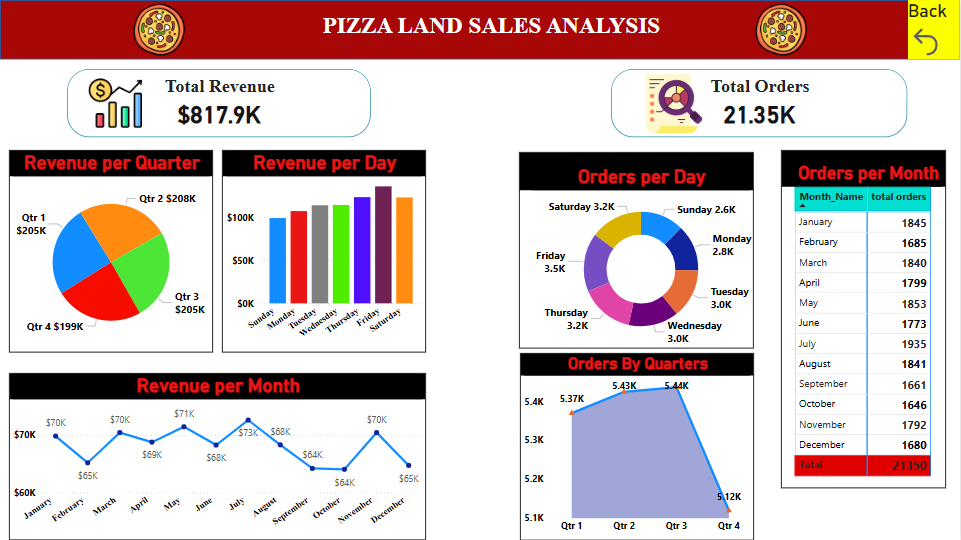

The dashboard page shown, as its layout file describes it:
{"tool":"powerbi","page":{"name":"Time Analysis","canvas":[1280,720],"ordinal":1},"visuals":[{"type":"shape","box":[0,0,1279.8,79.4],"z":0},{"type":"pivotTable","title":"Orders per Month","fields":{"Rows":["Orders.Month_Name"],"Values":["Orders.total orders"]},"box":[1041.7,199.8,219.7,450.7],"z":1000},{"type":"areaChart","title":"Orders By Quarters","fields":{"Category":["Orders.Quarter Order.Variation.Date Hierarchy.Quarter"],"Y":["Orders.total orders"]},"box":[693.8,470.3,312.4,250.3],"z":2000},{"type":"actionButton","title":"Back","box":[1210.4,0,69.4,79.4],"z":3000},{"type":"card","title":"Total Orders","fields":{"Values":["CountNonNull(Orders.order_id)"]},"box":[815,92.1,395.4,90.7],"z":4000},{"type":"donutChart","title":"Orders per Day","fields":{"Category":["Orders.DayName"],"Y":["Orders.total orders"]},"box":[691.7,202.7,313.2,262.2],"z":5000},{"type":"card","title":"Total Revenue","fields":{"Values":["Orders.Total Revenue"]},"box":[89.3,92.1,405.4,90.7],"z":6000},{"type":"lineChart","title":"Revenue per Month","fields":{"Category":["Orders.Month_Name"],"Y":["Orders.Total Revenue"]},"box":[11.8,497.2,556,223.4],"z":7000},{"type":"columnChart","title":"Revenue per Day","fields":{"Y":["Orders.Total Revenue"],"Category":["Orders.DayName"]},"box":[295.6,199.9,272.1,270.4],"z":8000},{"type":"pieChart","title":"Revenue per Quarter","fields":{"Category":["Orders.Quarter Order.Variation.Date Hierarchy.Quarter"],"Y":["Orders.Total Revenue"]},"box":[11.8,199.9,272.1,270.4],"z":9000},{"type":"textbox","title":"PIZZA LAND SALES ANALYSIS","box":[425.2,17,494.6,62.4],"z":10000},{"type":"image","box":[170.1,0,82.2,79.4],"z":11000},{"type":"image","box":[1000.6,0,82.2,79.4],"z":12000},{"type":"image","box":[113.4,92.1,80.8,90.7],"z":13000},{"type":"image","box":[849,93.5,99.2,89.3],"z":14001}]}

Visuals, with their boxes in screenshot pixels (x1, y1, x2, y2), scaled from the page's 1280x720 canvas onto the 961x540 screenshot:
shape: 0/0/960/60
"Orders per Month" pivotTable: 782/150/947/488
"Orders By Quarters" areaChart: 521/353/755/539
"Back" actionButton: 909/0/960/60
"Total Orders" card: 612/69/909/137
"Orders per Day" donutChart: 519/152/754/349
"Total Revenue" card: 67/69/371/137
"Revenue per Month" lineChart: 9/373/426/539
"Revenue per Day" columnChart: 222/150/426/353
"Revenue per Quarter" pieChart: 9/150/213/353
"PIZZA LAND SALES ANALYSIS" textbox: 319/13/691/60
image: 128/0/189/60
image: 751/0/813/60
image: 85/69/146/137
image: 637/70/712/137
